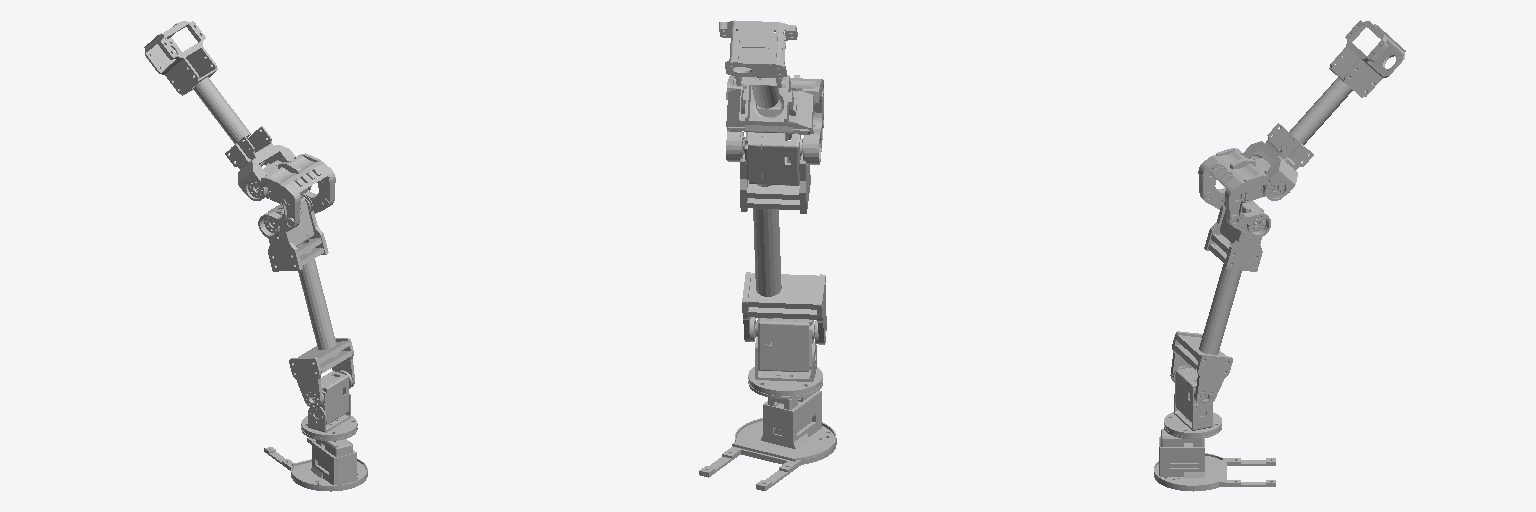
robot.urdf — mechanical_arm_1:
<?xml version='1.0' encoding='utf-8'?>
<robot name="mechanical_arm_1">
  <link name="base_link" />
  <link name="arm_base_link">
    <inertial>
      <origin xyz="0.01387 -0.046307 0.082791" rpy="0 0 0" />
      <mass value="0.054017" />
      <inertia ixx="2.8065E-05" ixy="-3.1714E-09" ixz="-1.5799E-06" iyy="2.1304E-05" iyz="-6.5701E-09" izz="1.2465E-05" />
    </inertial>
    <visual>
      <origin xyz="0 0 0" rpy="0 0 0" />
      <geometry>
        <mesh filename="package://mechanical_arm_1_description/meshes/base_link.STL" />
      </geometry>
      <material name="">
        <color rgba="0.75294 0.75294 0.75294 1" />
      </material>
    </visual>
  </link>
  <link name="Link1">
    <inertial>
      <origin xyz="-0.0016574 -0.00077178 0.025281" rpy="0 0 0" />
      <mass value="0.044828" />
      <inertia ixx="7.5478E-06" ixy="-1.8795E-07" ixz="-2.5749E-08" iyy="7.8637E-06" iyz="-1.1918E-08" izz="8.0206E-06" />
    </inertial>
    <visual>
      <origin xyz="0 0 0" rpy="0 0 0" />
      <geometry>
        <mesh filename="package://mechanical_arm_1_description/meshes/Link1.STL" />
      </geometry>
      <material name="">
        <color rgba="0.75294 0.75294 0.75294 1" />
      </material>
    </visual>
  </link>
  <joint name="j1" type="revolute">
    <origin xyz="0.0466 -0.078476 -0.046289" rpy="0 1.5708 0" />
    <parent link="arm_base_link" />
    <child link="Link1" />
    <axis xyz="0 0 -1" />
    <limit lower="-1.5708" upper="1.5708" effort="2.0" velocity="1.0" />
  </joint>
  <joint name="base_axis_fix" type="fixed">
    <origin xyz="0 0 0" rpy="0 -1.5708 0" />
    <parent link="base_link" />
    <child link="arm_base_link" />
  </joint>
  <link name="Link2">
    <inertial>
      <origin xyz="-0.034855 0.018846 0.10687" rpy="0 0 0" />
      <mass value="0.079744" />
      <inertia ixx="2.0738E-05" ixy="4.3117E-07" ixz="1.2607E-06" iyy="2.0011E-05" iyz="-2.7108E-06" izz="1.0954E-05" />
    </inertial>
    <visual>
      <origin xyz="0 0 0" rpy="0 0 0" />
      <geometry>
        <mesh filename="package://mechanical_arm_1_description/meshes/Link2.STL" />
      </geometry>
      <material name="">
        <color rgba="0.75294 0.75294 0.75294 1" />
      </material>
    </visual>
  </link>
  <joint name="j2" type="revolute">
    <origin xyz="0.025109 0.011696 0.0466" rpy="0 0 0" />
    <parent link="Link1" />
    <child link="Link2" />
    <axis xyz="-0.90648 -0.42225 0" />
    <limit lower="-1.5708" upper="1.2217" effort="2.0" velocity="1.0" />
  </joint>
  <link name="Link3">
    <inertial>
      <origin xyz="0.024435 0.0089288 0.030317" rpy="0 0 0" />
      <mass value="0.062184" />
      <inertia ixx="2.207E-05" ixy="-4.9857E-06" ixz="4.0101E-07" iyy="3.0246E-05" iyz="-9.0419E-07" izz="2.8475E-05" />
    </inertial>
    <visual>
      <origin xyz="0 0 0" rpy="0 0 0" />
      <geometry>
        <mesh filename="package://mechanical_arm_1_description/meshes/Link3.STL" />
      </geometry>
      <material name="">
        <color rgba="0.75294 0.75294 0.75294 1" />
      </material>
    </visual>
  </link>
  <joint name="j3" type="revolute">
    <origin xyz="-0.067934 0.025532 0.17282" rpy="0 0 0" />
    <parent link="Link2" />
    <child link="Link3" />
    <axis xyz="-0.90648 -0.42225 0" />
    <limit lower="-1.2217" upper="2.6180" effort="2.0" velocity="1.0" />
  </joint>
  <link name="Link4">
    <inertial>
      <origin xyz="-0.049942 0.038386 0.052105" rpy="0 0 0" />
      <mass value="0.041906" />
      <inertia ixx="1.5208E-05" ixy="-1.9177E-06" ixz="1.4624E-06" iyy="1.8649E-05" iyz="-3.1569E-06" izz="1.9687E-05" />
    </inertial>
    <visual>
      <origin xyz="0 0 0" rpy="0 0 0" />
      <geometry>
        <mesh filename="package://mechanical_arm_1_description/meshes/Link4.STL" />
      </geometry>
      <material name="">
        <color rgba="0.75294 0.75294 0.75294 1" />
      </material>
    </visual>
  </link>
  <joint name="j4" type="revolute">
    <origin xyz="0.042971 0.040611 0.033065" rpy="0 0 0" />
    <parent link="Link3" />
    <child link="Link4" />
    <axis xyz="0.90648 0.42225 0" />
    <limit lower="-1.5708" upper="1.5708" effort="2.0" velocity="1.0" />
  </joint>
  <link name="link4_tip_link" />
  <joint name="link4_tip_joint" type="fixed">
    <origin xyz="-0.100 0.118 0.105" rpy="0 0 0" />
    <parent link="Link4" />
    <child link="link4_tip_link" />
  </joint>
</robot>

--- Render facts (derived) ---
Views: 3 orthographic renders of the robot side by side, from view 1: azimuth 30°, elevation 25°; view 2: azimuth 150°, elevation 25°; view 3: azimuth 270°, elevation 25°.
Model mechanical_arm_1 with 7 links and 6 joints (4 revolute, 2 fixed), rooted at base_link, posed every joint at zero.
Visible links, largest first — view 1: Link4, Link2, Link3, arm_base_link, Link1; view 2: Link2, Link4, arm_base_link, Link1, Link3; view 3: Link4, Link2, Link3, arm_base_link, Link1.
Link boxes in pixels (left/top/right/bottom): Link4: left=144, top=21, right=295, bottom=200; Link2: left=268, top=198, right=354, bottom=408; Link3: left=256, top=153, right=335, bottom=238; arm_base_link: left=264, top=438, right=367, bottom=491; Link1: left=301, top=371, right=357, bottom=440; Link2: left=740, top=132, right=826, bottom=344; Link4: left=719, top=20, right=814, bottom=134; arm_base_link: left=699, top=390, right=836, bottom=490; Link1: left=748, top=318, right=822, bottom=398; Link3: left=726, top=75, right=823, bottom=164; Link4: left=1243, top=20, right=1405, bottom=200; Link2: left=1170, top=201, right=1263, bottom=406; Link3: left=1198, top=148, right=1277, bottom=237; arm_base_link: left=1154, top=429, right=1275, bottom=491; Link1: left=1164, top=367, right=1221, bottom=438.
Bounding box of the posed robot: 0.1413 × 0.2391 × 0.4329 m (x, y, z).
5 mesh visuals loaded from 5 distinct referenced files (5 binary STL).
